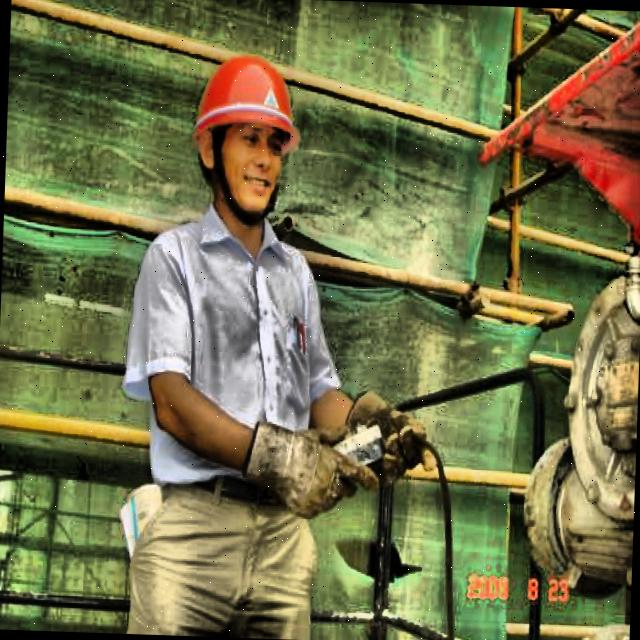helmet: (168, 42, 316, 238)
